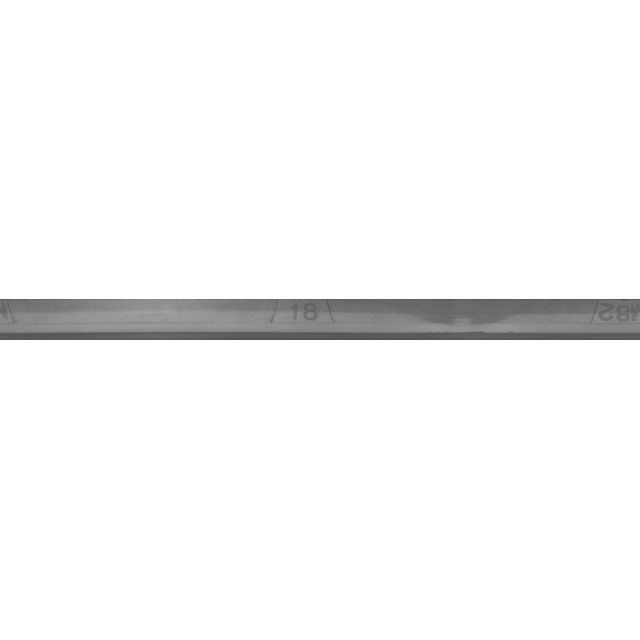mohao: (529, 270, 640, 370)
xuehao: (201, 270, 401, 370)
